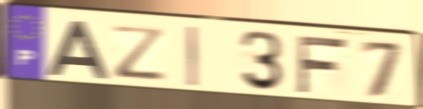3: (237, 29, 286, 93)
7: (359, 39, 407, 100)
A: (45, 18, 112, 81)
F: (294, 33, 350, 95)
I: (185, 24, 200, 89)
Z: (110, 23, 169, 83)
